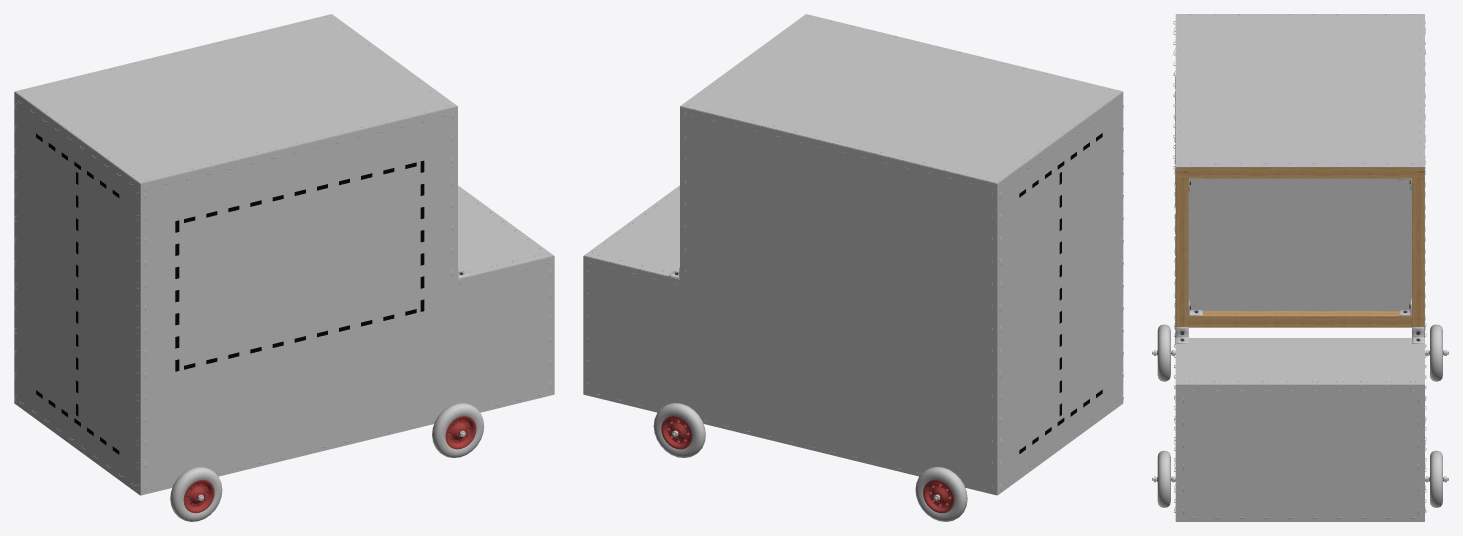
The picture shows the model from 3 angles, left to right: view 1: azimuth 30°, elevation 25°; view 2: azimuth 150°, elevation 25°; view 3: azimuth 270°, elevation 25°; orthographic projection.
Visible parts, largest first — view 1: Плоскость.092, Плоскость.089, Плоскость.093, Плоскость.094, Плоскость.090, Wheel_Tire_0.013, Wheel_Tire_0.014, Wheel_PMetal_0.013, Wheel_PMetal_0.014; view 2: Плоскость.095, Плоскость.089, Плоскость.093, Плоскость.096, Плоскость.090, Wheel_Tire_0.012, Wheel_Tire_0.015, Wheel_PMetal_0.012, Wheel_PMetal_0.015; view 3: Плоскость.089, Плоскость.091, Плоскость.093, Плоскость.090, Куб.055, Куб.057, Куб.063, Куб.053, Wheel_Tire_0.014, Wheel_Tire_0.013, Wheel_Tire_0.015, Wheel_Tire_0.012.
Boxes of the visible parts, x1,y1,x2,y2 form: Плоскость.092: (140, 106, 457, 495); Плоскость.089: (15, 14, 457, 183); Плоскость.093: (14, 92, 140, 495); Плоскость.094: (458, 256, 554, 412); Плоскость.090: (458, 185, 553, 279); Wheel_Tire_0.013: (432, 403, 484, 457); Wheel_Tire_0.014: (170, 467, 222, 521); Wheel_PMetal_0.013: (445, 416, 476, 449); Wheel_PMetal_0.014: (183, 480, 214, 513); Плоскость.095: (680, 106, 997, 495); Плоскость.089: (680, 14, 1122, 183); Плоскость.093: (997, 92, 1123, 495); Плоскость.096: (583, 256, 679, 412); Плоскость.090: (584, 185, 679, 279); Wheel_Tire_0.012: (653, 403, 705, 457); Wheel_Tire_0.015: (915, 467, 967, 521); Wheel_PMetal_0.012: (661, 416, 692, 449); Wheel_PMetal_0.015: (923, 479, 954, 513); Плоскость.089: (1176, 14, 1424, 167); Плоскость.091: (1176, 385, 1424, 521); Плоскость.093: (1188, 178, 1411, 310); Плоскость.090: (1176, 338, 1424, 384); Куб.055: (1188, 311, 1411, 327); Куб.057: (1188, 167, 1411, 178); Куб.063: (1176, 178, 1188, 337); Куб.053: (1412, 178, 1424, 337); Wheel_Tire_0.014: (1157, 324, 1170, 381); Wheel_Tire_0.013: (1157, 450, 1170, 507); Wheel_Tire_0.015: (1430, 324, 1442, 381); Wheel_Tire_0.012: (1430, 450, 1442, 507).
Size of the model in its own units: 3.02 by 2.4 by 1.89.
